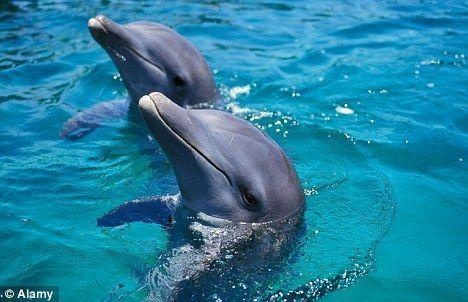fish: (96, 90, 304, 302), (58, 13, 227, 142)
